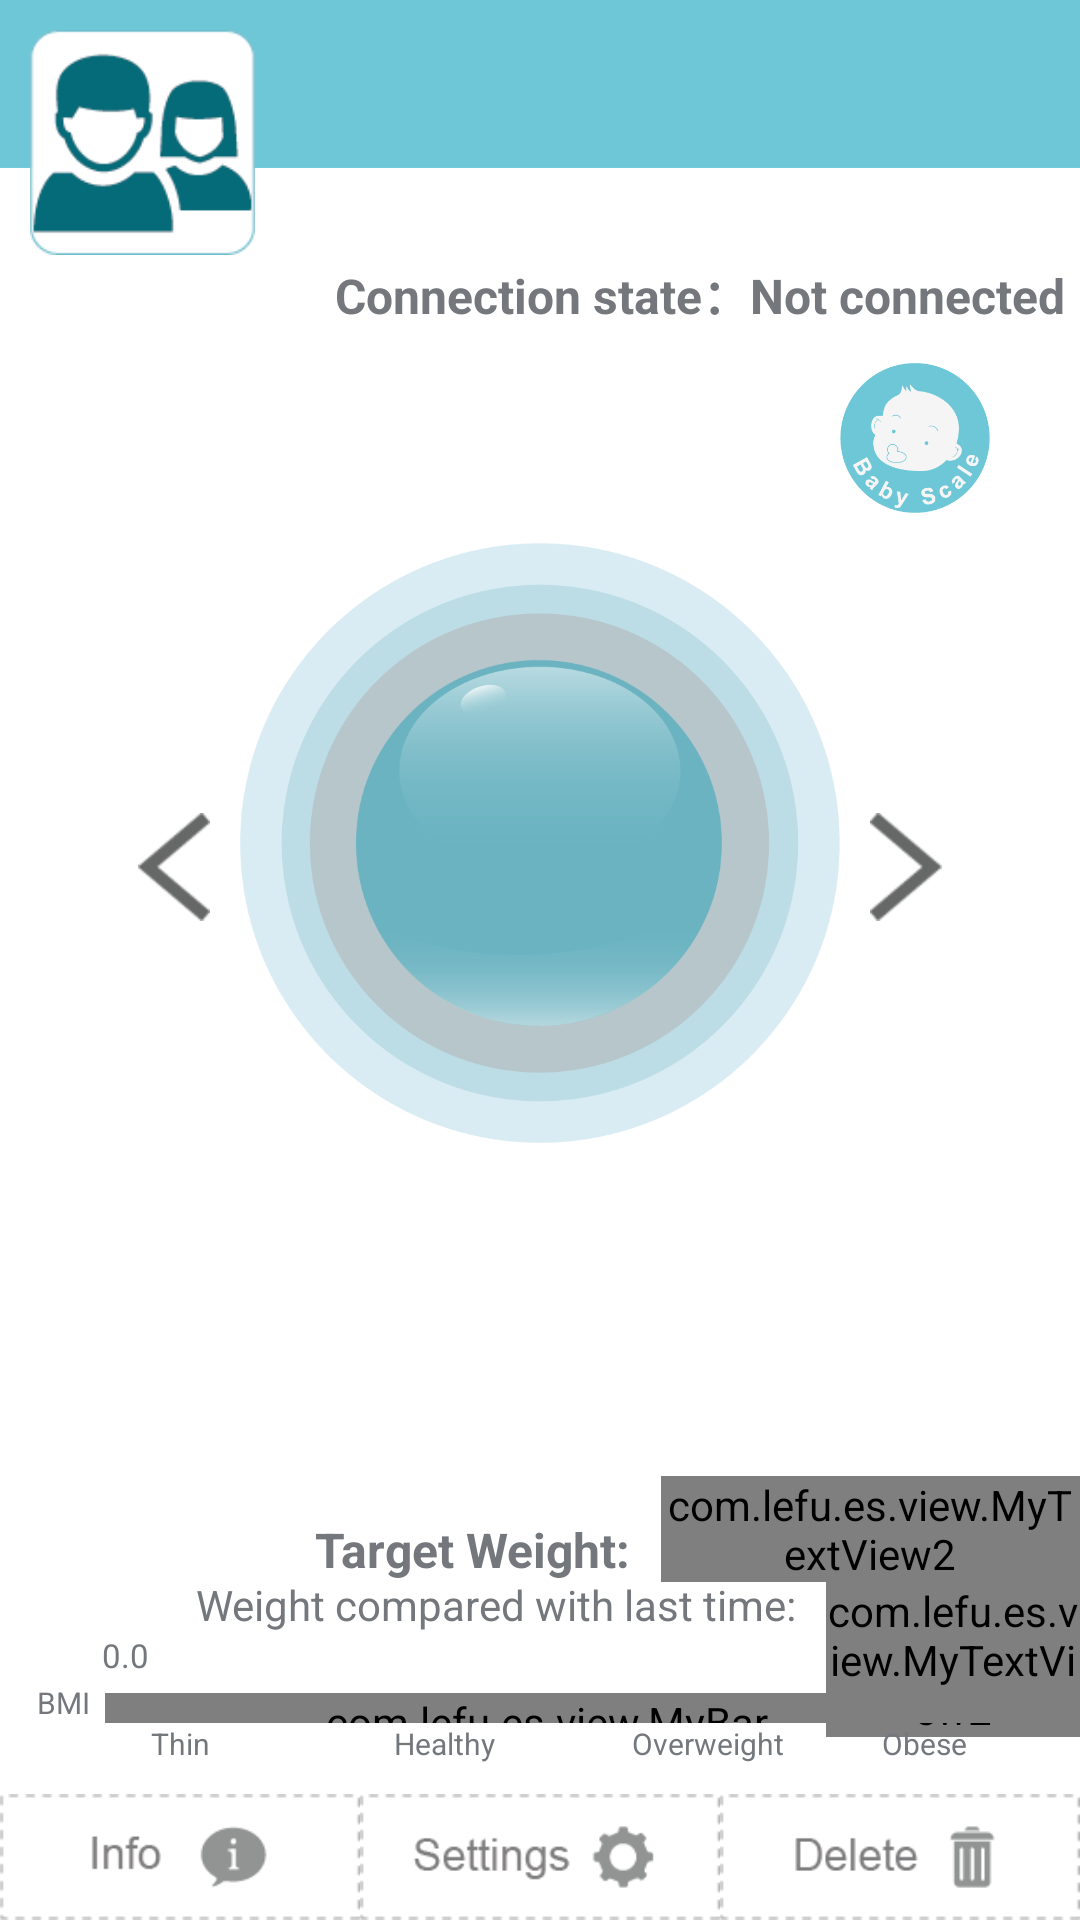

Point at icon controls on the screen. Image size 1080x1920, points as point (x, y).
left to: point (174, 867)
right to: point (906, 867)
user pic: point (142, 142)
